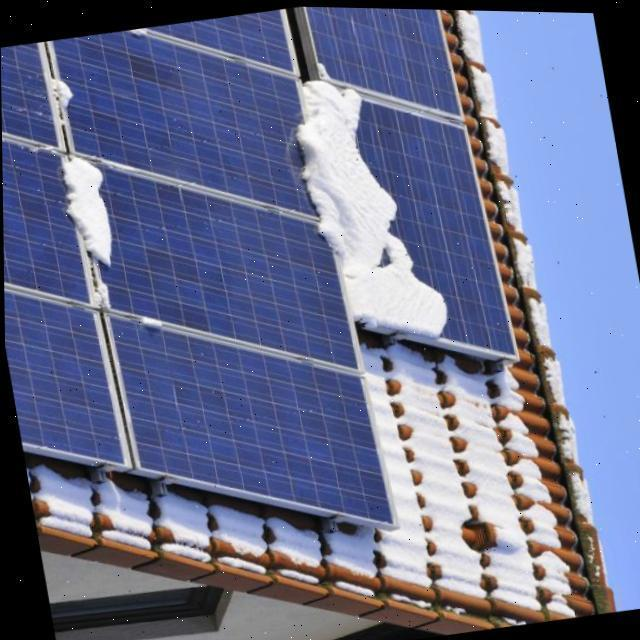Anomaly Solar Panel: (49, 7, 396, 522), (300, 5, 512, 377)
Normal Solar Panel: (1, 41, 127, 464)
Snow: (270, 66, 456, 357), (57, 143, 124, 270)
